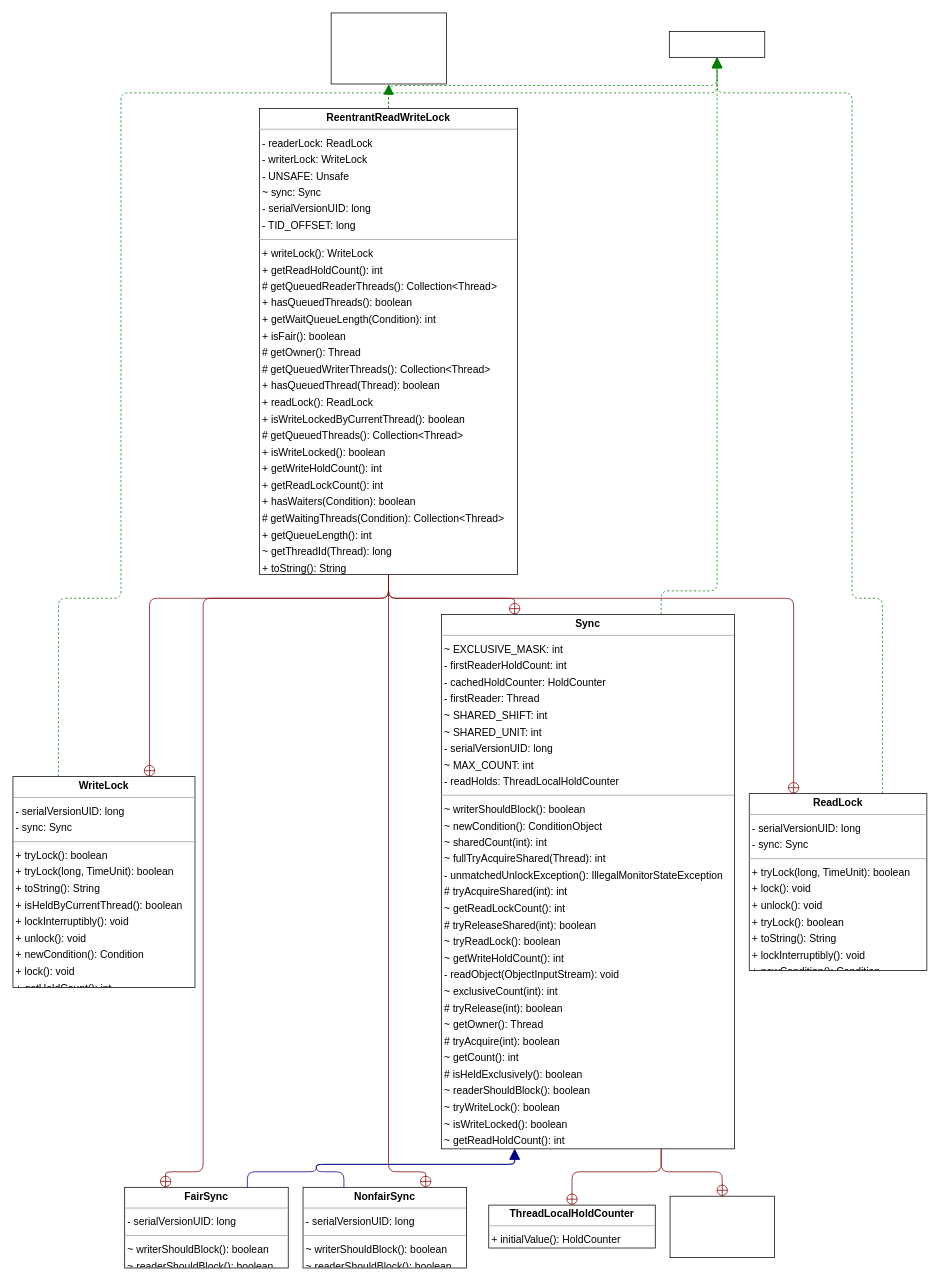
This 940x1284 diagram has some shape labels left out. The centre of each missing label's shape, as x and y in pixels:
"<<interface>> ReadWriteLock + readLock(): Lock + writeLock(): Lock" goes at (x=388, y=48).
"<<interface>> Serializable" goes at (x=717, y=44).
"HoldCounter ~ count: int ~ tid: long" goes at (x=721, y=1226).
